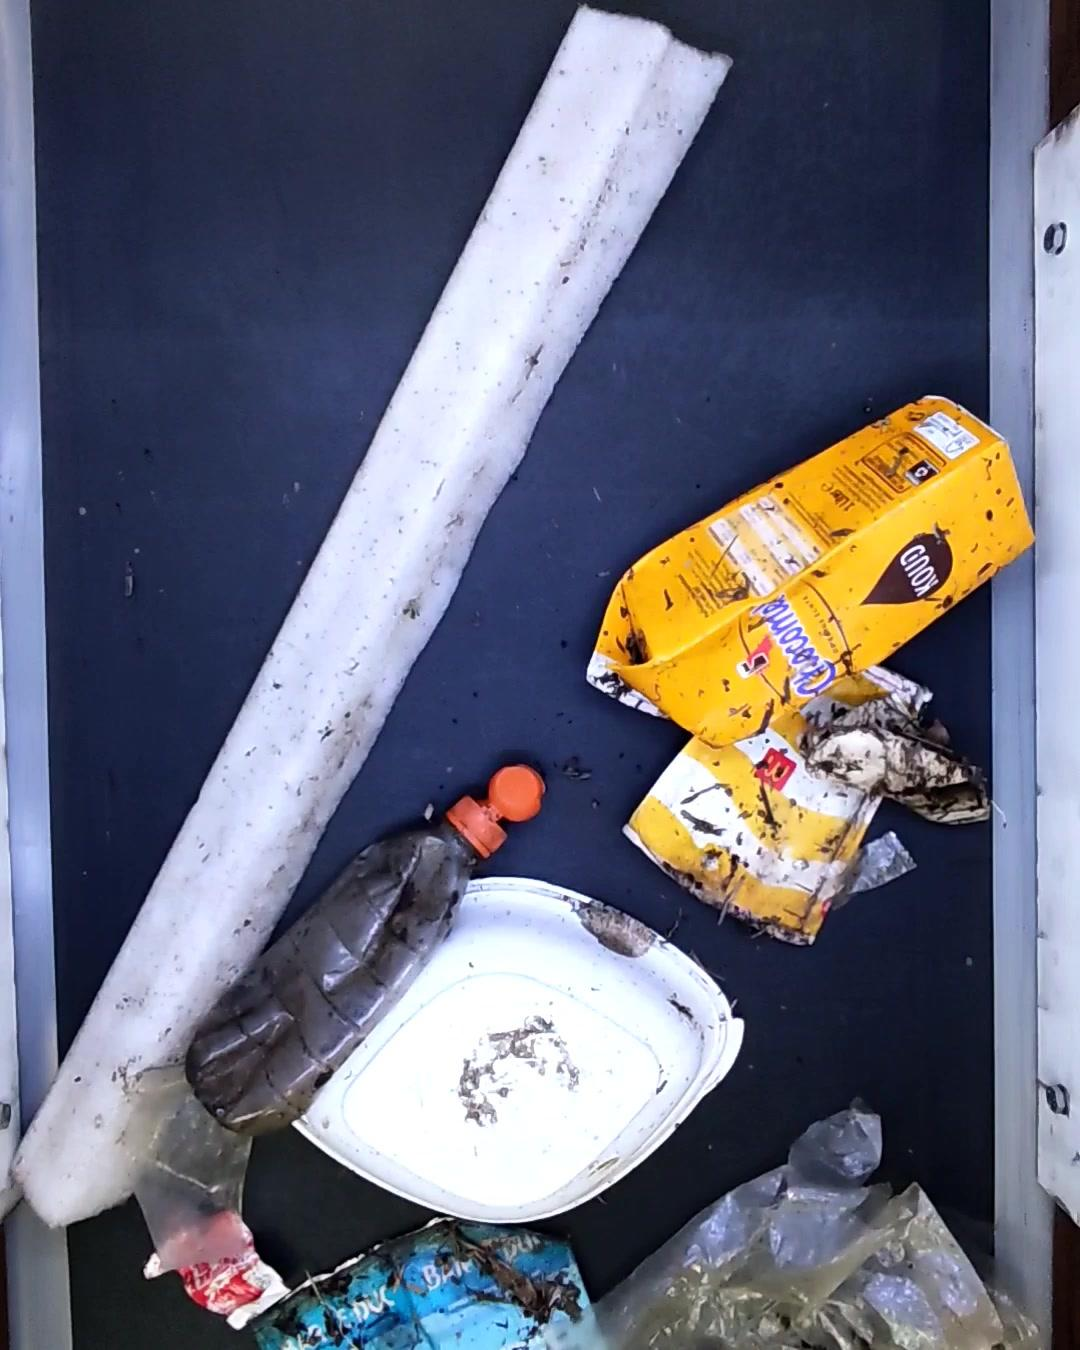Drankflessen - 1-2 liter: (184, 762, 548, 1138)
Plastic folies of stukken daarvan 2.5- 50 cm: (549, 1105, 1049, 1350), (122, 1062, 253, 1262), (827, 835, 918, 904)
Snoep snack en chips verpakkingen: (144, 1210, 292, 1331)
Voedselverpakkingen: (279, 866, 748, 1233)
